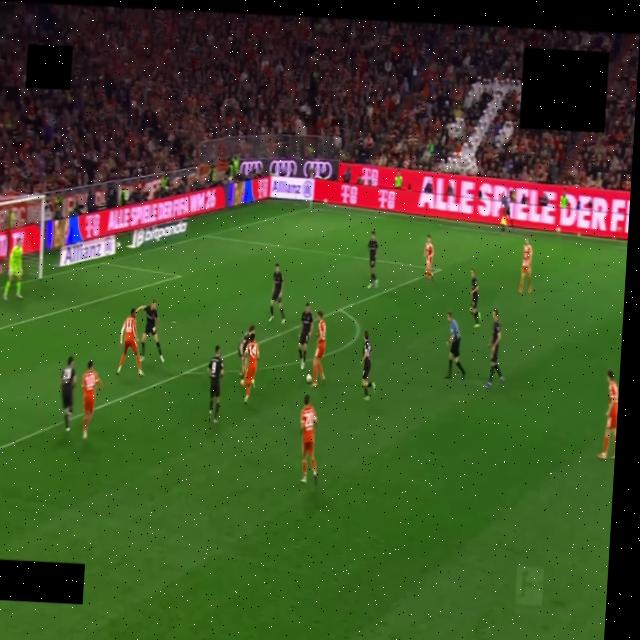ball: (306, 374, 312, 384)
player: (598, 371, 618, 459), (117, 309, 143, 376), (136, 300, 163, 362), (82, 361, 102, 438), (301, 395, 317, 485), (486, 309, 504, 387), (241, 333, 259, 402), (3, 237, 22, 300), (61, 357, 76, 432), (209, 346, 223, 422), (312, 311, 326, 386), (298, 304, 313, 370), (468, 268, 484, 329), (269, 263, 285, 324), (362, 332, 375, 400), (238, 326, 254, 379), (519, 238, 532, 293), (368, 231, 378, 288), (424, 235, 433, 281)
referee: (445, 312, 465, 379)
